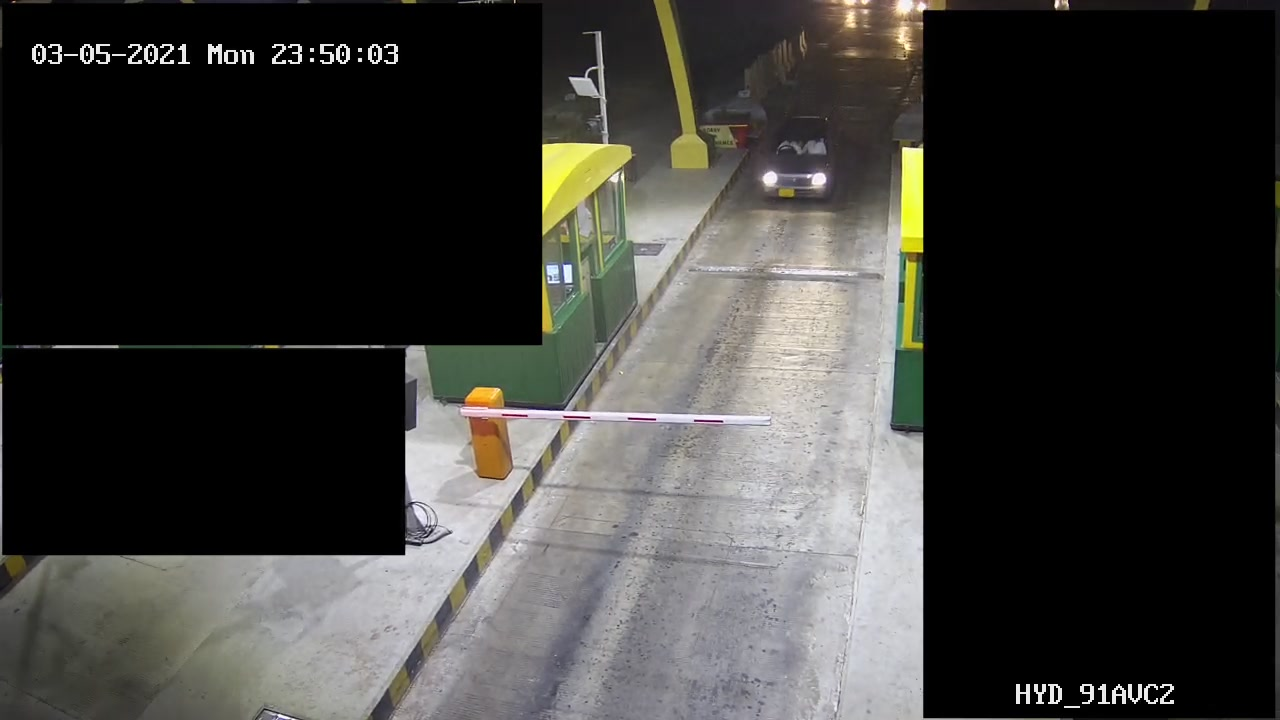F1: (759, 103, 844, 212)
